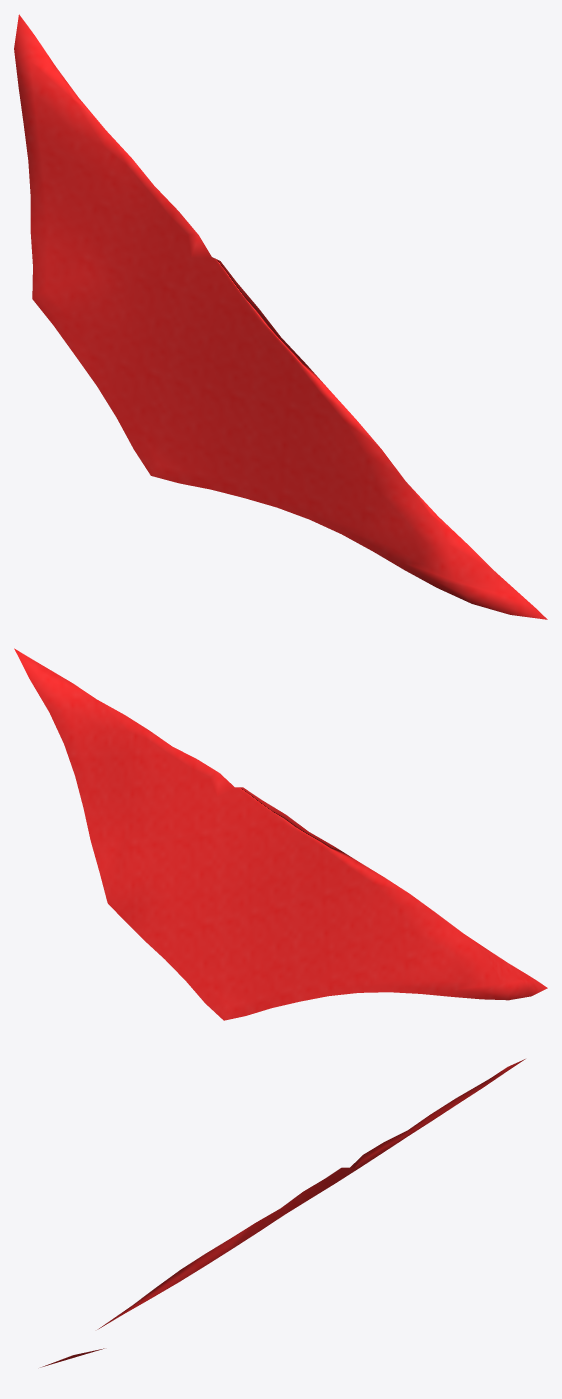
The model's file is Pants_Decor_Pocket_Left_V1.glb.
The picture shows the model from 3 angles, top to bottom: view 1: azimuth 90°, elevation 25°; view 2: azimuth 150°, elevation 25°; view 3: azimuth 270°, elevation 25°; orthographic projection.
Visible parts, largest first — view 1: Pants_Decor_Pocket_Left.001; view 2: Pants_Decor_Pocket_Left.001; view 3: Pants_Decor_Pocket_Left.001.
Boxes of the visible parts, <box> form: Pants_Decor_Pocket_Left.001: <box>14,14,547,619</box>; Pants_Decor_Pocket_Left.001: <box>14,648,547,1020</box>; Pants_Decor_Pocket_Left.001: <box>40,1059,525,1367</box>.
Bounding box in the file's own units: 0.0548 × 0.0878 × 0.0903.
Materials: 1 (1 with a texture image).
